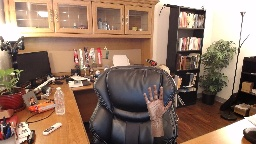Mano_aperta: (141, 83, 172, 119)
